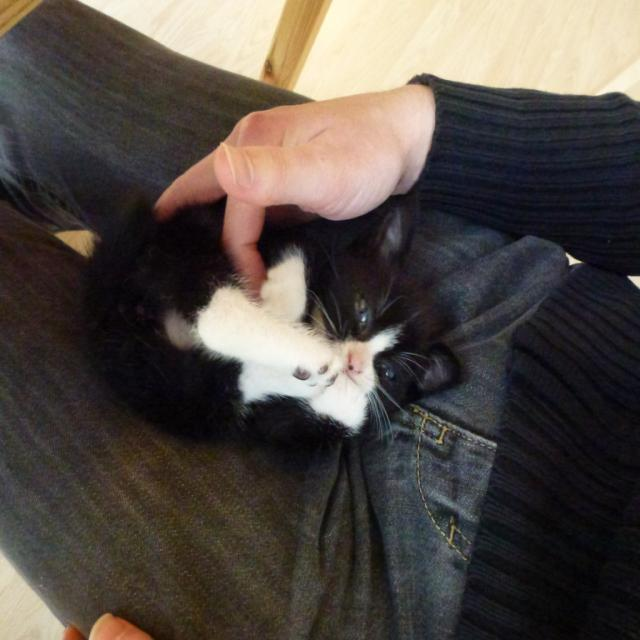Cat: (89, 204, 466, 450)
